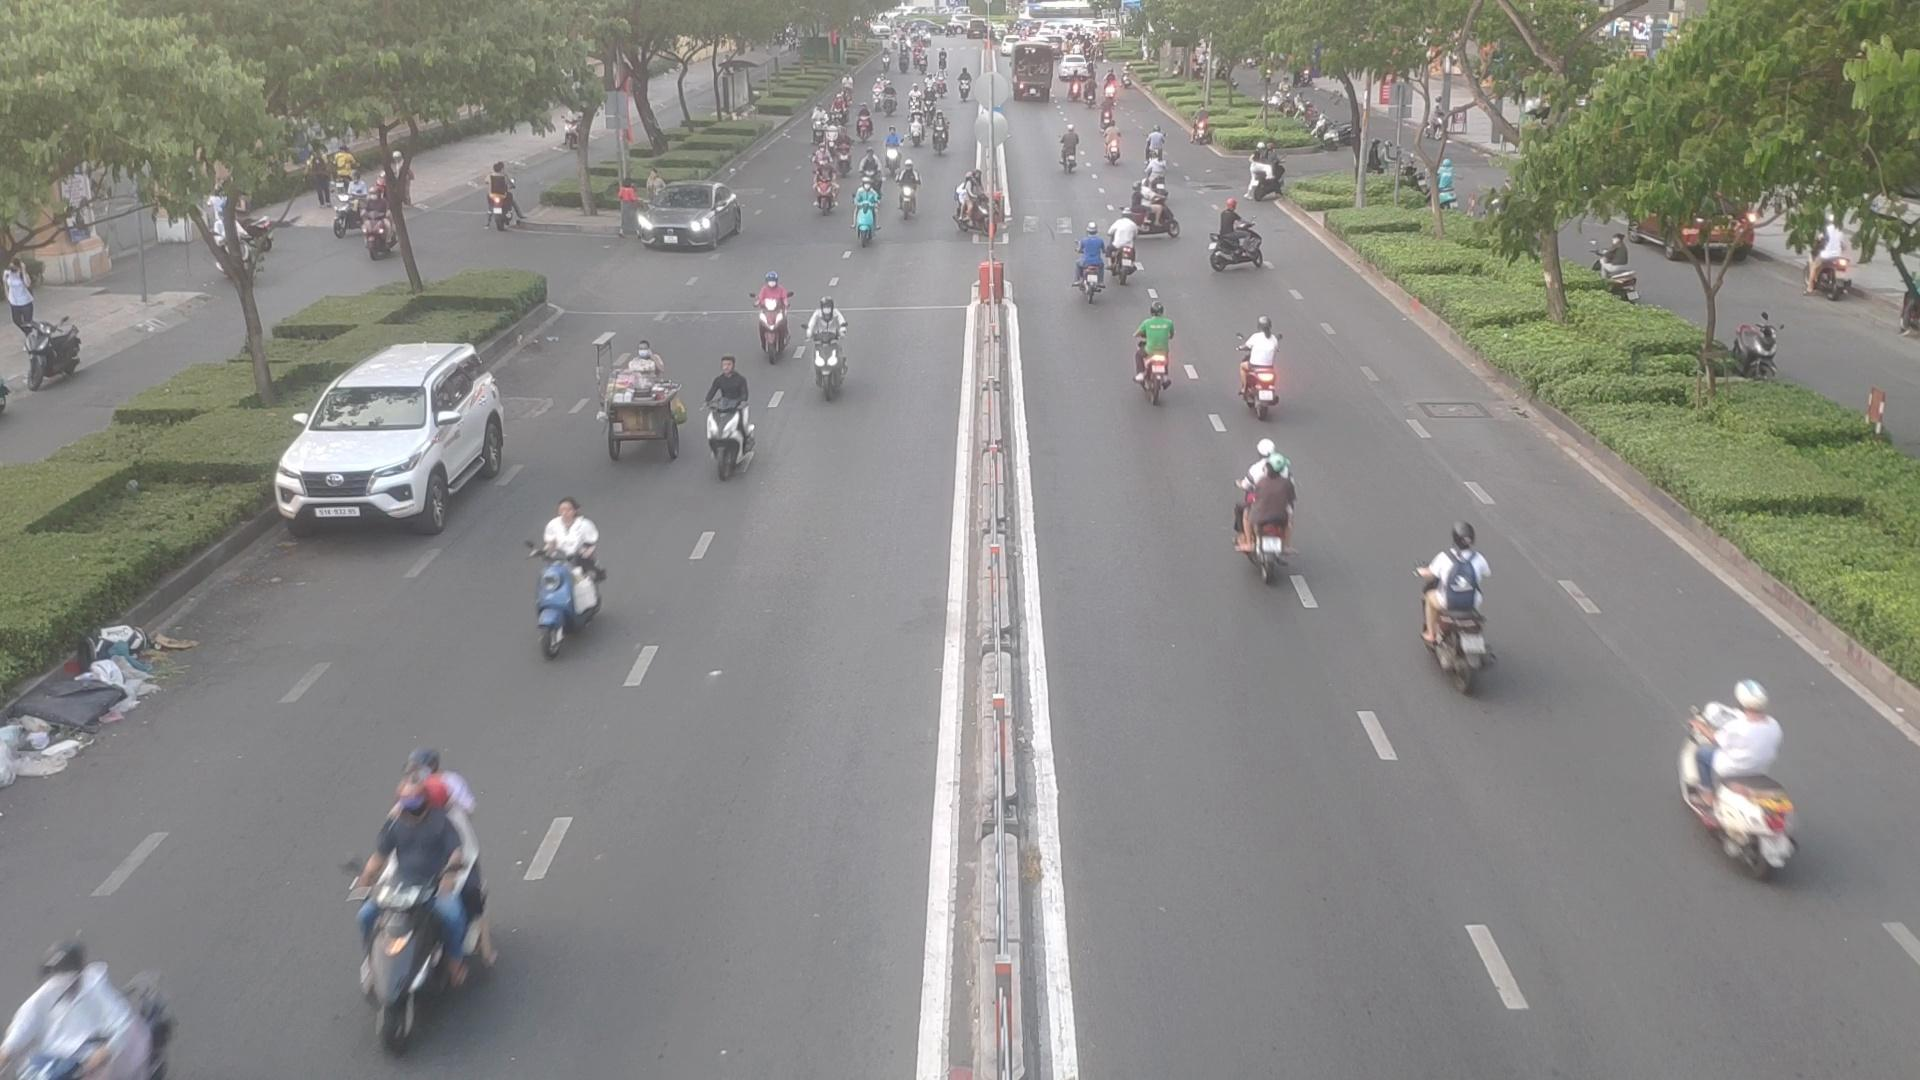car: (280, 339, 520, 527), (617, 189, 752, 255)
motorbike: (349, 762, 498, 1039), (1676, 671, 1807, 874), (0, 945, 167, 1079), (521, 502, 607, 646), (1414, 539, 1501, 676), (1230, 443, 1309, 578), (691, 360, 760, 479), (800, 291, 862, 404), (1131, 309, 1192, 401), (1071, 224, 1134, 305), (1233, 320, 1288, 410), (742, 272, 799, 357), (960, 173, 1021, 245), (1211, 216, 1273, 273), (1131, 186, 1180, 243)
